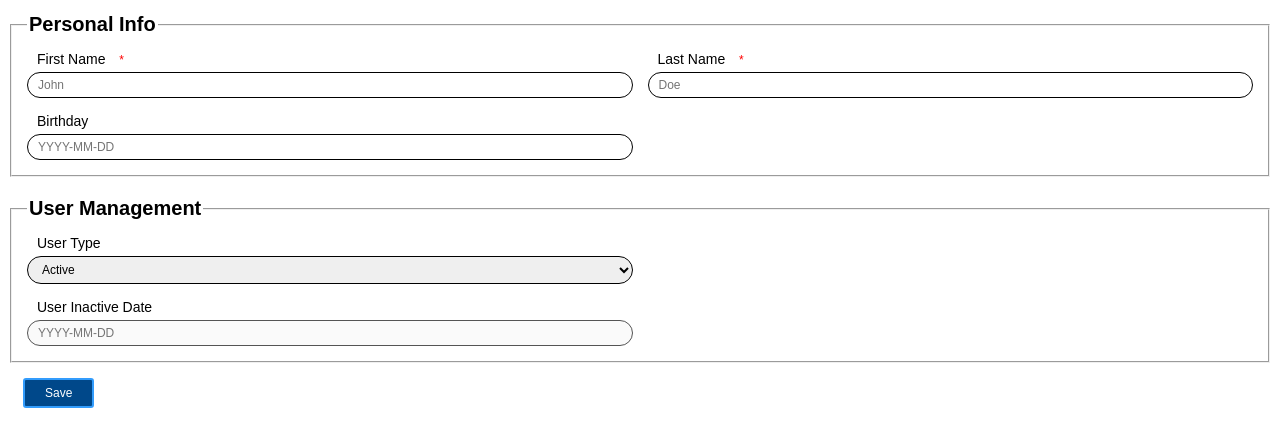
Test: test FormTaskComplete › test first name and last name empty
The image size is (1280, 444).
Click the button "Save".
click(59, 393)  # box top-left (23, 378), bottom-right (94, 408)
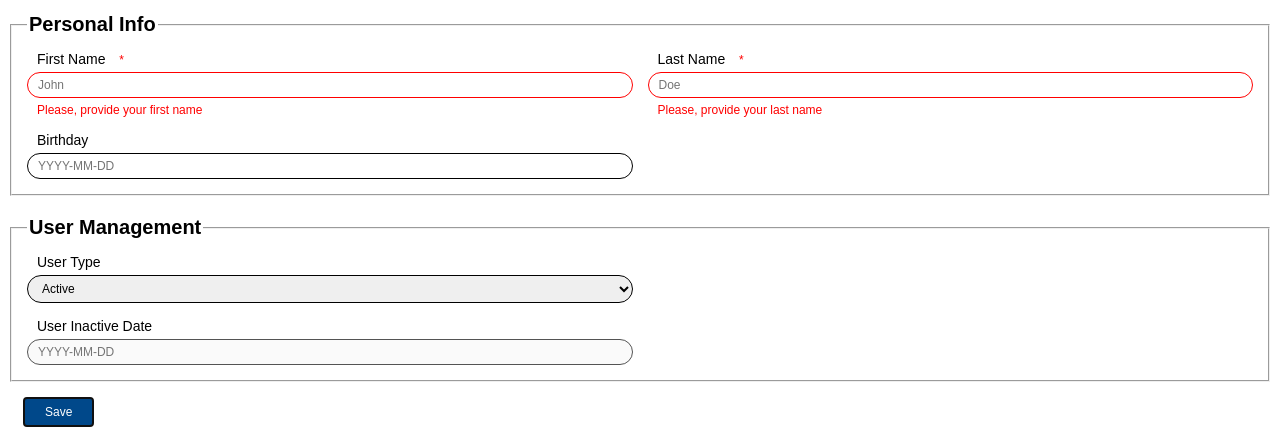
Expected: the text "Please, provide your first name" is shown, top-left (37, 103), bottom-right (202, 117)
Expected: the text "Please, provide your last name" is shown, top-left (658, 103), bottom-right (822, 117)
